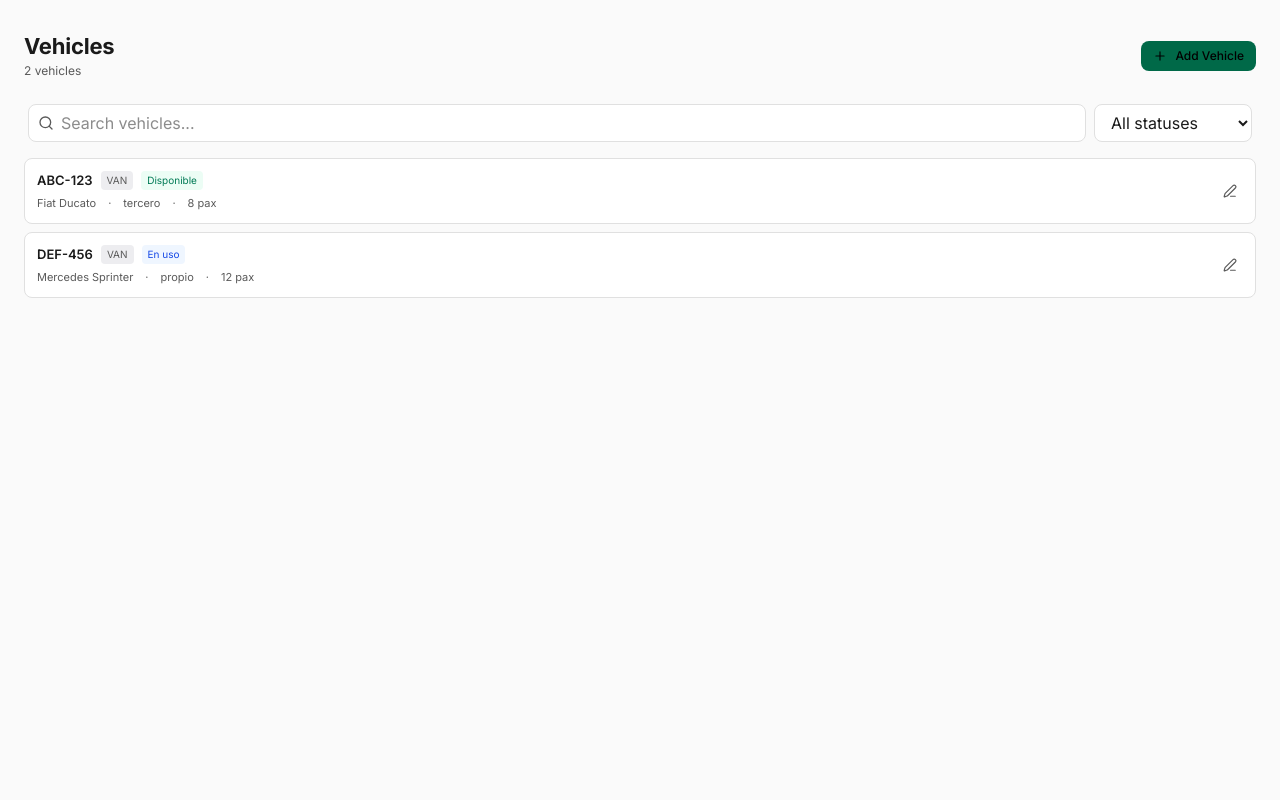
Test: VehicleScreen › disables Save button when plate is empty on create
Expected: the text "ABC-123" is shown, left=37, top=171, right=92, bottom=190
Click the button "Add Vehicle": (1199, 56) left=1141, top=41, right=1256, bottom=71
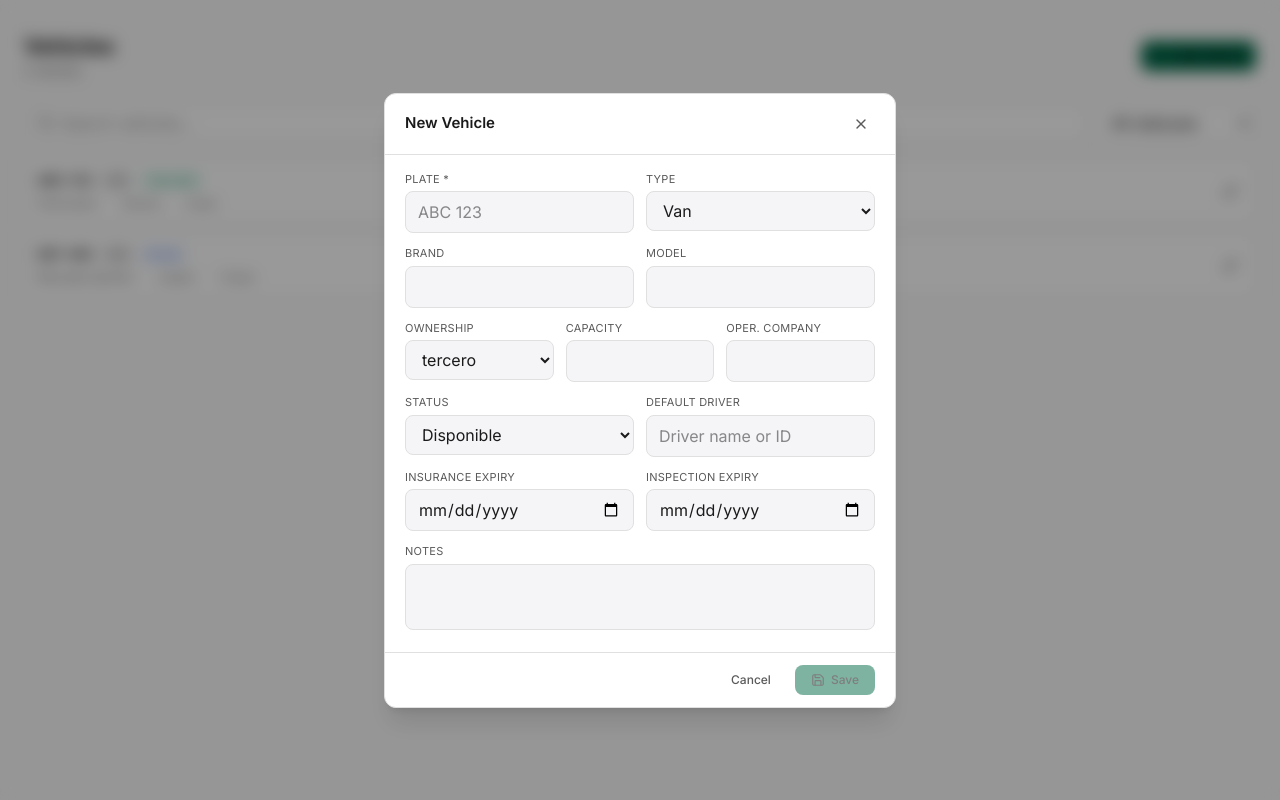
Expected: the button "Save" is disabled, left=795, top=664, right=875, bottom=694
